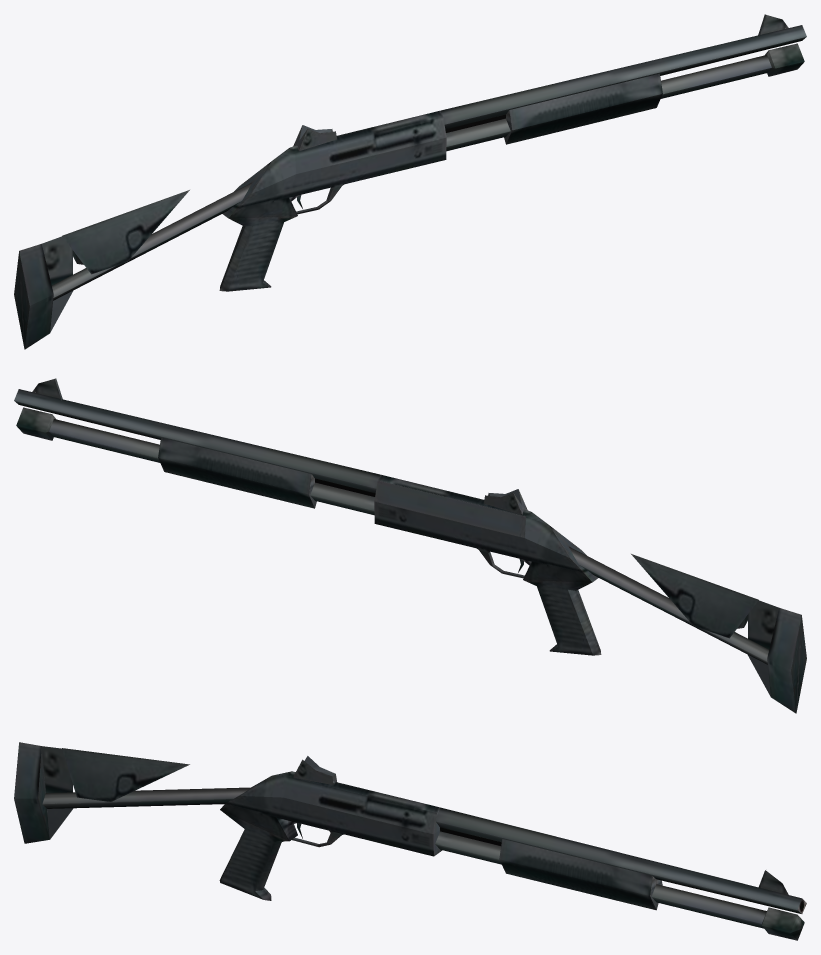
The model's file is Shotgun.fbx.
3 renders of one model, top to bottom at view 1: azimuth 30°, elevation 25°; view 2: azimuth 150°, elevation 25°; view 3: azimuth 330°, elevation 25°, orthographic.
Visible parts, largest first — view 1: Shotgun; view 2: Shotgun; view 3: Shotgun.
Boxes of the visible parts, bbox=[...] form: Shotgun: bbox=[14, 14, 806, 349]; Shotgun: bbox=[14, 378, 806, 713]; Shotgun: bbox=[14, 742, 806, 940].
Bounding box in the file's own units: 1061 × 200 × 39.35.
